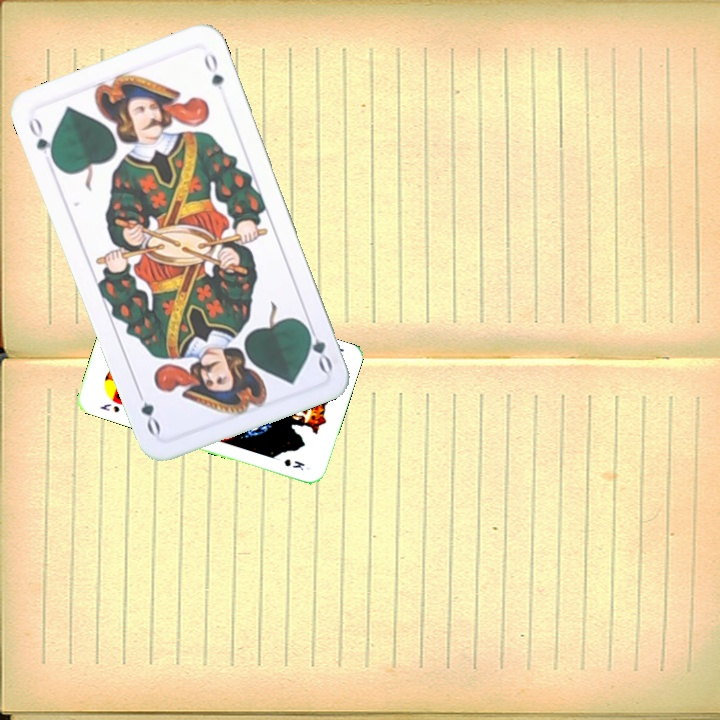GO: (299, 317, 336, 375), (24, 113, 59, 168)
SK: (95, 400, 122, 415)
